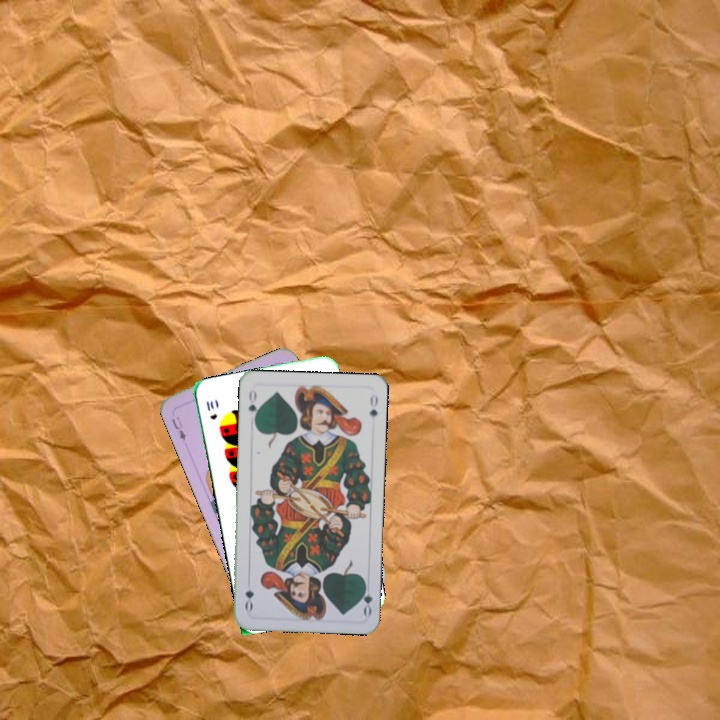EU: (168, 412, 188, 443)
GO: (356, 577, 375, 618), (244, 385, 261, 426)
S10: (202, 396, 220, 422)
